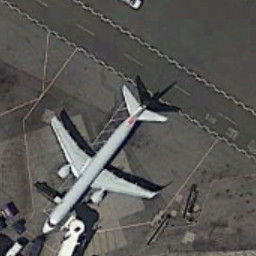Airplane: (28, 68, 177, 240)
